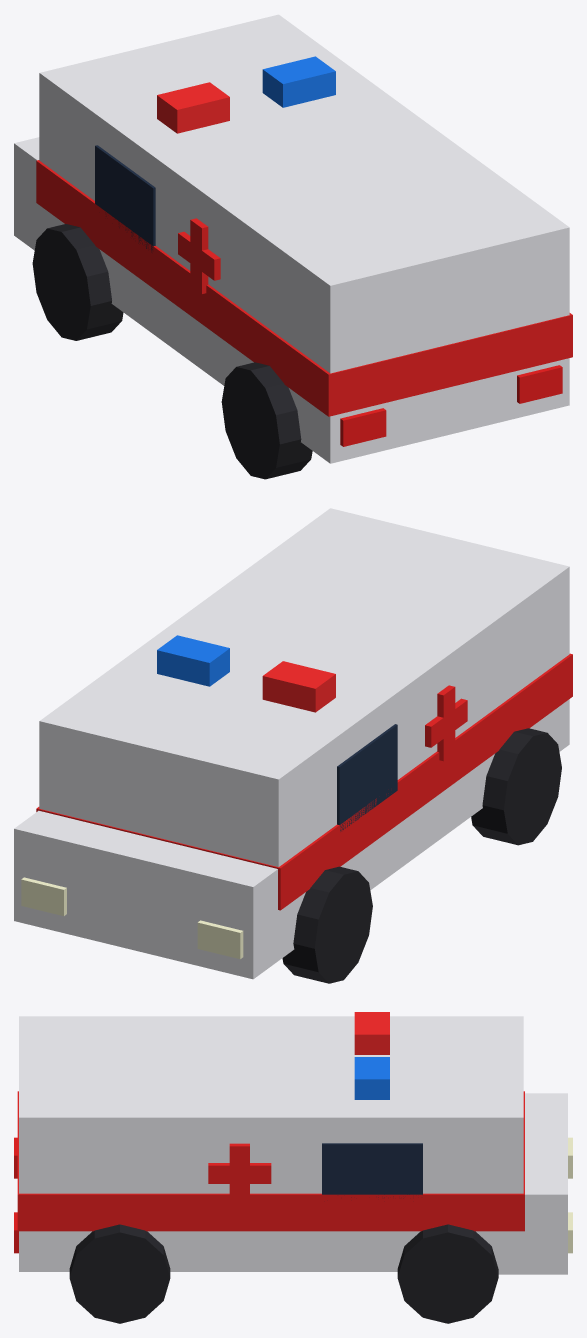
Rendered from ambulance.obj.
3 views of the same model, one above another, from view 1: azimuth 30°, elevation 25°; view 2: azimuth 150°, elevation 25°; view 3: azimuth 270°, elevation 25° (orthographic). The views are drawn at different scales.
Size of the model in its own units: 2.24 by 1.91 by 4.43.
